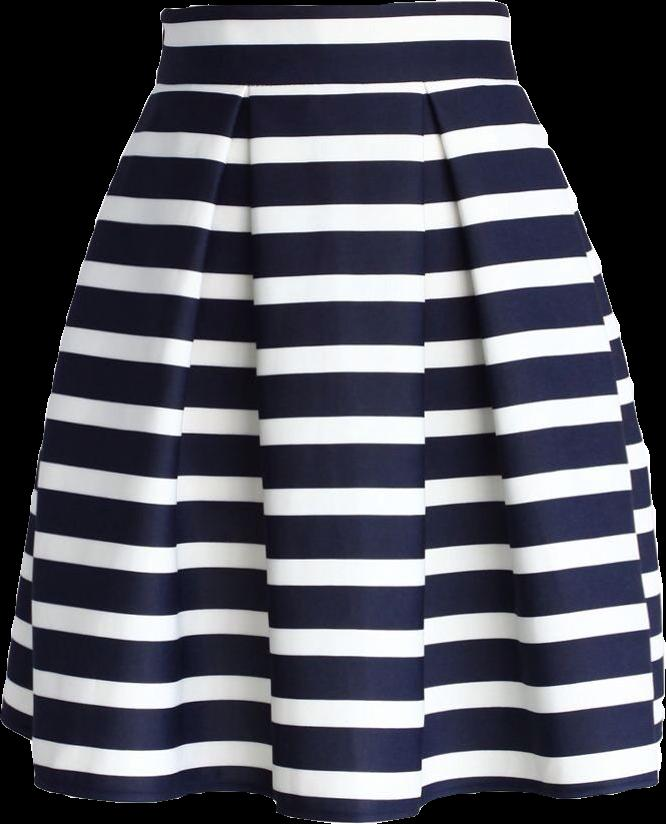Hemline: (0, 715, 665, 823)
Waistline: (149, 73, 517, 91), (158, 0, 510, 17)
